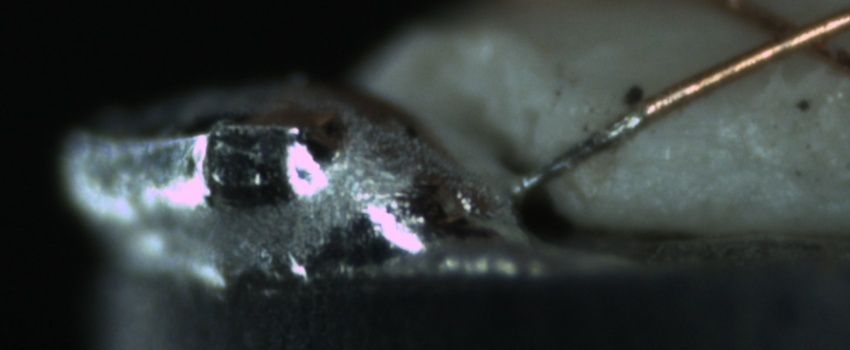CL: (745, 3, 844, 66)
DL: (621, 112, 739, 155)
TS: (522, 106, 648, 191)
TTCW: (510, 75, 697, 198)
